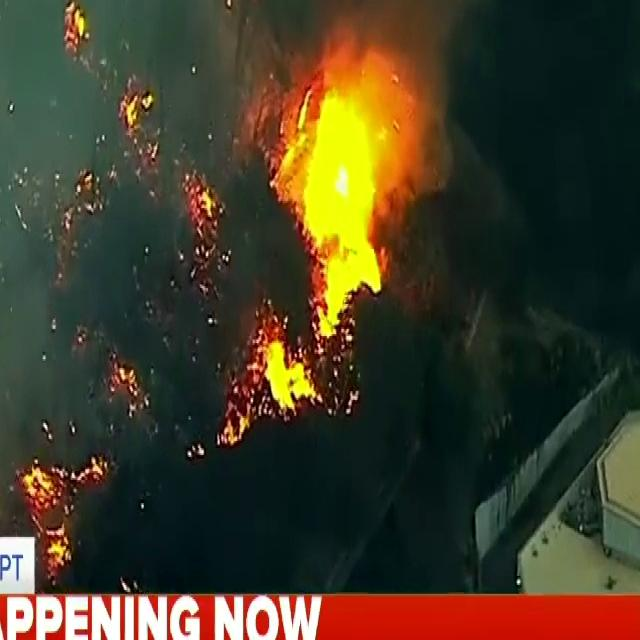fire: (260, 50, 421, 428)
smoke: (0, 0, 442, 171)
